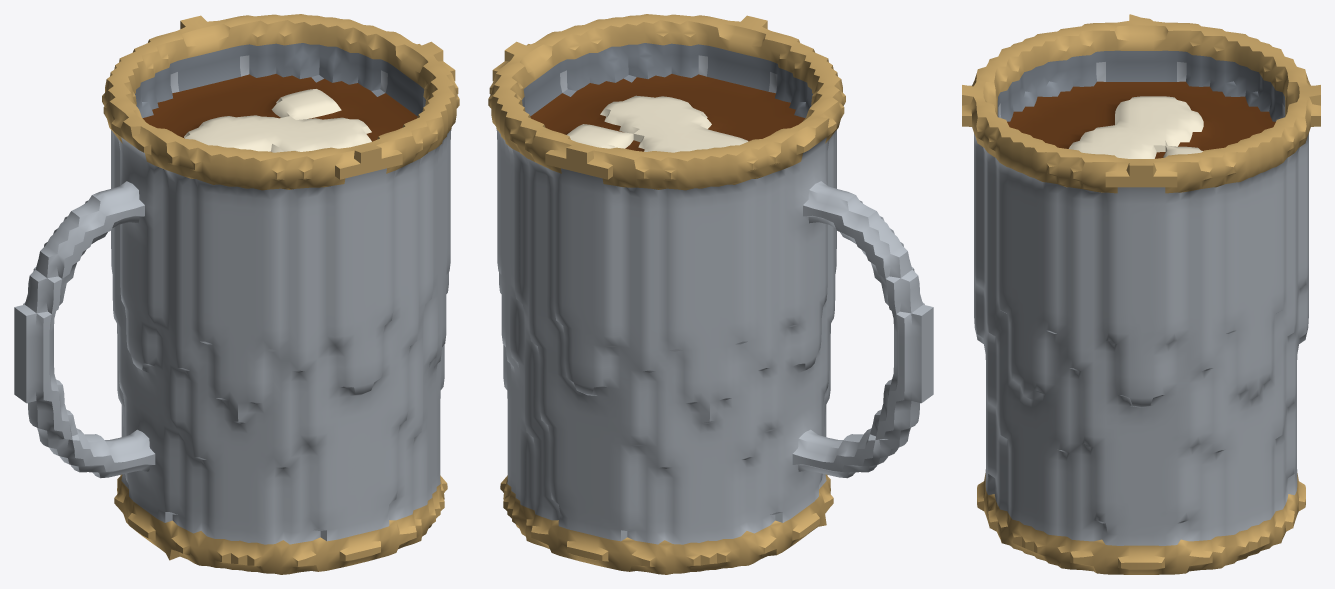
The model's file is prop_tankard.glb.
3 renders of one model, left to right at view 1: azimuth 30°, elevation 25°; view 2: azimuth 150°, elevation 25°; view 3: azimuth 270°, elevation 25°, orthographic.
Parts seen in each view (by area): view 1: town_prop_tankard; view 2: town_prop_tankard; view 3: town_prop_tankard.
Boxes of the visible parts, <box> form: town_prop_tankard: <box>14,14,459,574</box>; town_prop_tankard: <box>488,14,933,574</box>; town_prop_tankard: <box>962,14,1320,574</box>.
Size of the model in its own units: 0.2083 by 0.2031 by 0.1562.
